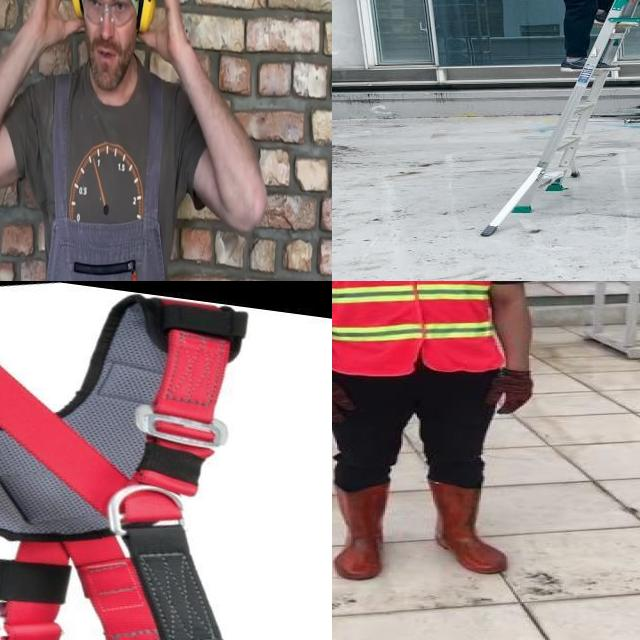Ear-protection: (71, 0, 157, 84)
Harness: (0, 295, 247, 640)
boots: (430, 477, 508, 574), (332, 479, 390, 581)
glasses: (79, 0, 136, 29)
hand_glove: (481, 368, 534, 415), (332, 382, 356, 422)
head_helmet: (332, 281, 560, 590)
person: (0, 0, 268, 281), (520, 0, 640, 81)
shoes: (559, 49, 625, 76)
vest: (332, 281, 500, 373)
